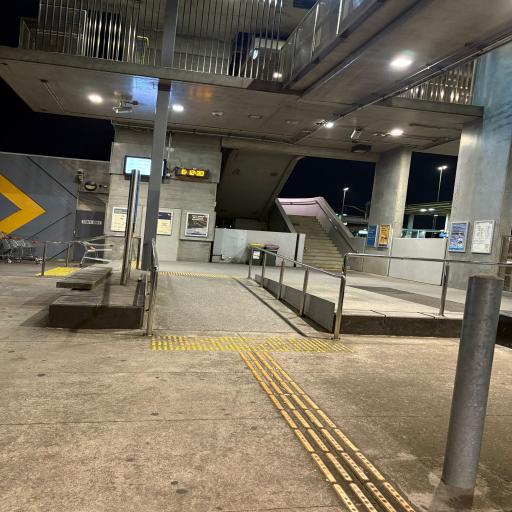Obstruction: (437, 277, 508, 490)
handrail: (246, 244, 350, 336)
ramp: (158, 275, 313, 328)
stairs: (289, 216, 351, 268)
tgsi: (241, 351, 420, 509), (154, 337, 353, 352), (158, 271, 244, 279), (33, 264, 80, 276)
